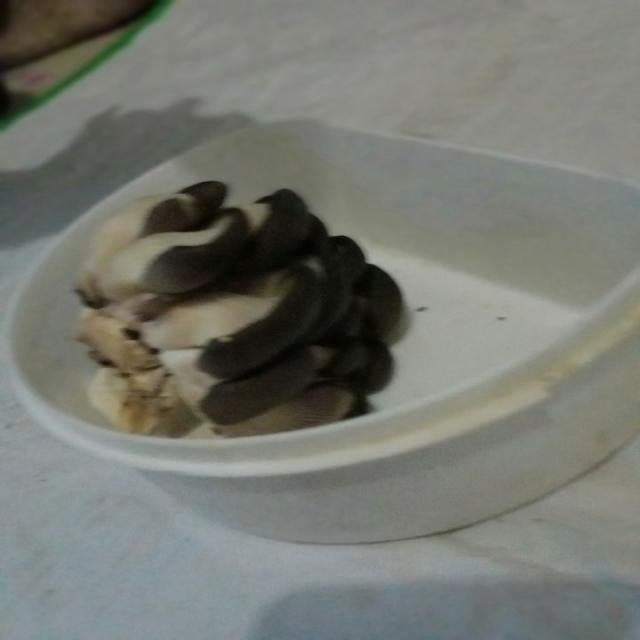Pleurotus ostreatus: (70, 180, 400, 432)
